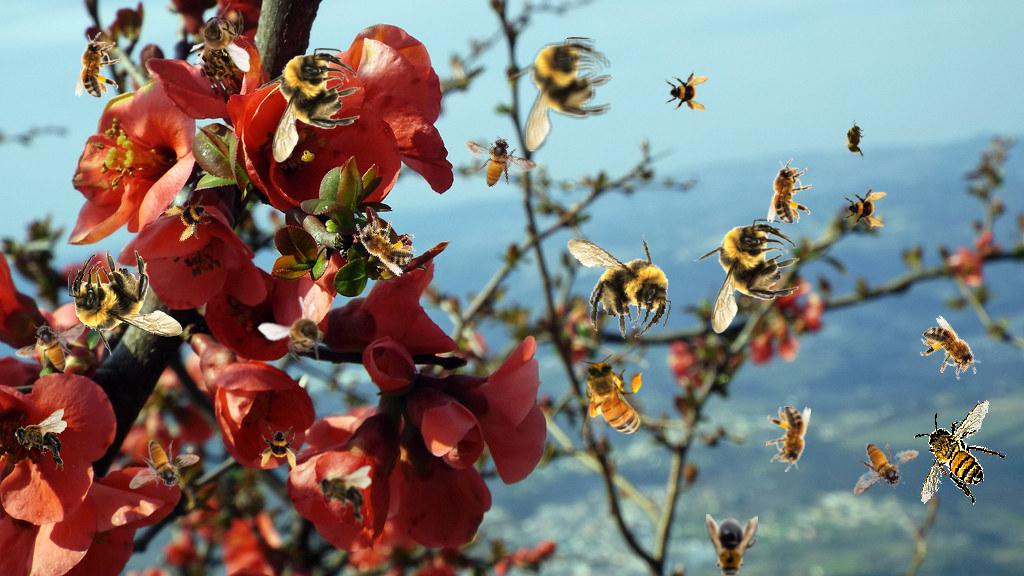Bee: (550, 218, 685, 347), (906, 391, 1013, 513), (67, 248, 184, 357), (254, 48, 361, 163), (506, 37, 613, 152), (693, 219, 800, 334), (256, 285, 349, 379), (452, 118, 540, 203), (578, 354, 646, 447), (911, 313, 991, 390), (344, 206, 424, 279), (845, 434, 925, 497), (312, 458, 375, 528), (189, 2, 250, 72), (160, 187, 222, 249), (129, 440, 200, 490), (15, 322, 86, 372), (14, 409, 67, 471), (706, 514, 758, 576), (767, 158, 812, 224), (75, 32, 120, 98), (766, 406, 811, 472), (665, 69, 709, 113), (843, 185, 887, 229), (259, 426, 303, 470), (842, 118, 868, 160)
